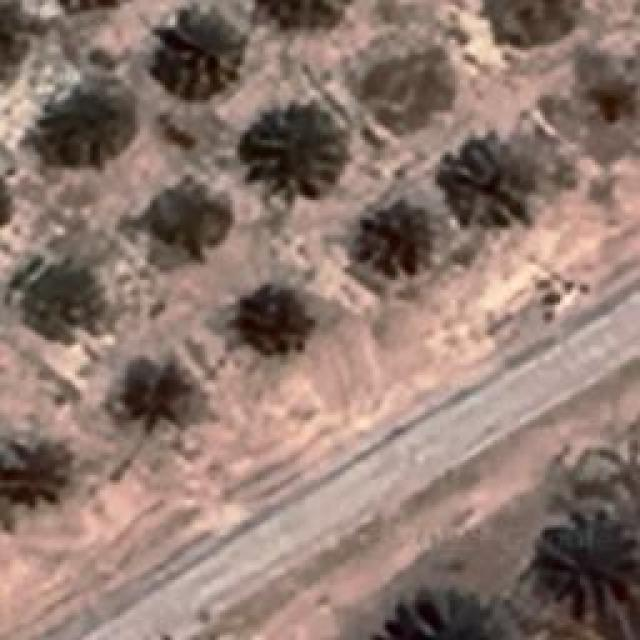PalmTree: (106, 14, 440, 615), (531, 512, 640, 624), (29, 76, 139, 174), (142, 8, 248, 102), (240, 100, 342, 192), (442, 138, 540, 228), (352, 195, 446, 283), (12, 256, 110, 340), (109, 352, 199, 438), (1, 428, 76, 528), (230, 278, 318, 354), (145, 179, 224, 258), (575, 42, 640, 126), (0, 1, 30, 74), (40, 0, 133, 18), (0, 0, 20, 74), (0, 156, 11, 248), (38, 0, 136, 10)
